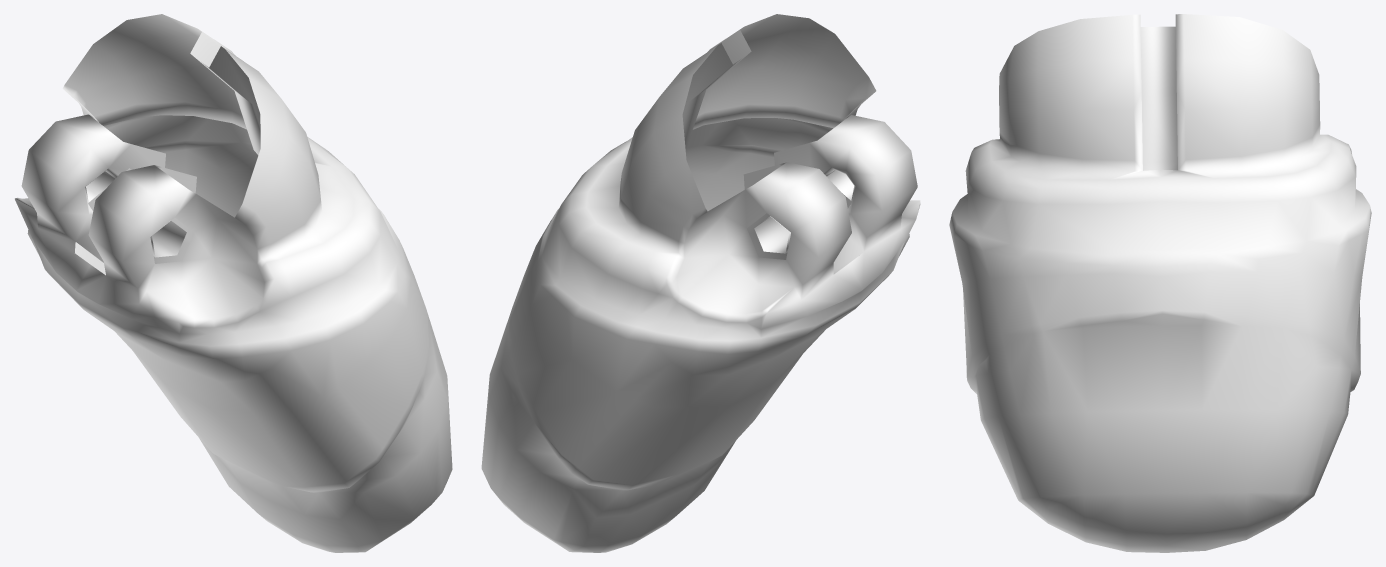
Rendered from LThumb2.dae.
The picture shows the model from 3 angles, left to right: view 1: azimuth 30°, elevation 25°; view 2: azimuth 150°, elevation 25°; view 3: azimuth 270°, elevation 25°; orthographic projection. The views are drawn at different scales.
Parts seen in each view (by area): view 1: LThumb2; view 2: LThumb2; view 3: LThumb2.
Part boxes in pixels (x1,y1,x2,y2): LThumb2: (15,14,452,552); LThumb2: (481,14,920,552); LThumb2: (949,14,1371,552).
Bounding box in the file's own units: 0.1435 × 0.1622 × 0.2047.
1 material, 1 textured.
